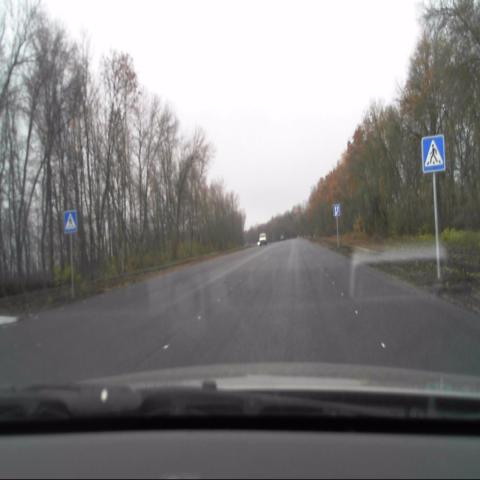5_15_3: (334, 203, 342, 217)
5_19_1: (421, 134, 446, 173), (64, 209, 77, 231)
